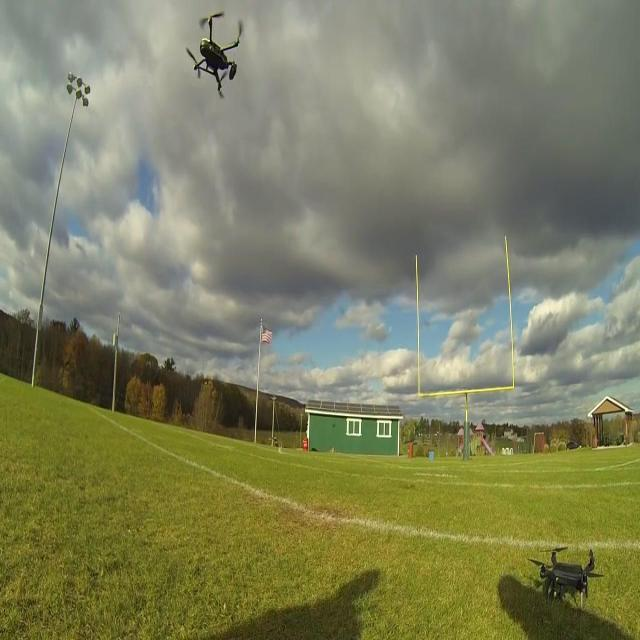drone: (185, 9, 242, 103)
